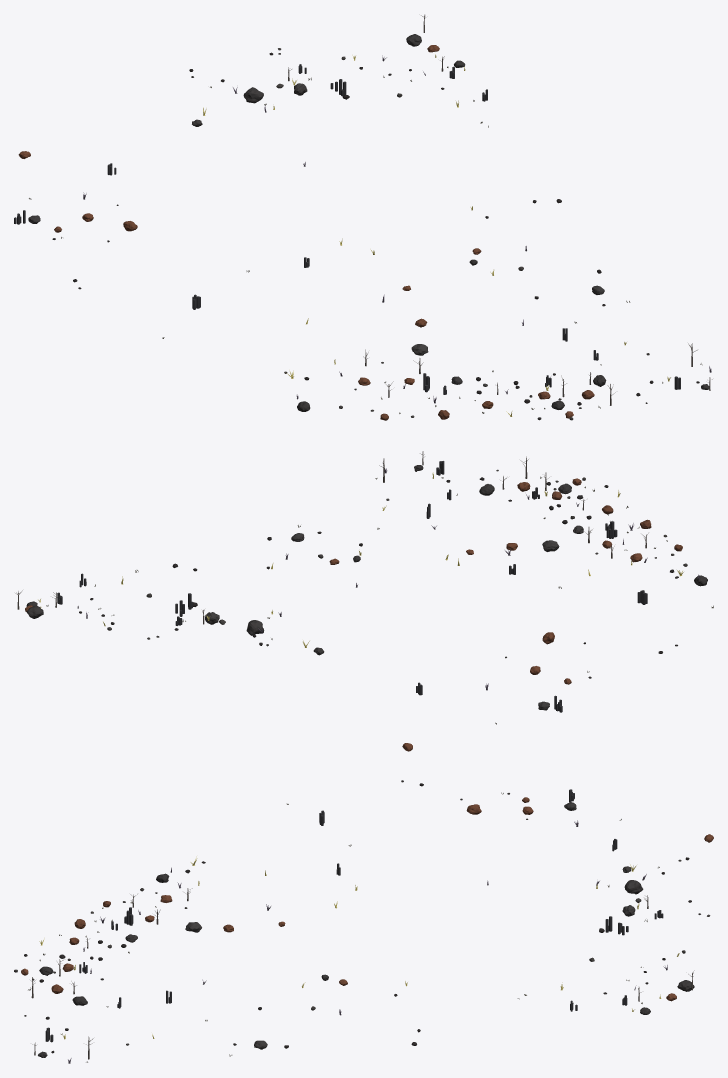
The model's file is ash_land_scatter_c17_28.glb.
The picture shows the model from 3 angles, top to bottom: view 1: azimuth 30°, elevation 25°; view 2: azimuth 150°, elevation 25°; view 3: azimuth 270°, elevation 25°; orthographic projection. The views are drawn at different scales.
Visible parts, largest first — view 1: ash_land_scatter_c17_28; view 2: ash_land_scatter_c17_28; view 3: ash_land_scatter_c17_28.
Boxes of the visible parts, x1,y1,x2,y2 form: ash_land_scatter_c17_28: (14, 14, 712, 420); ash_land_scatter_c17_28: (15, 451, 713, 751); ash_land_scatter_c17_28: (14, 780, 713, 1063).
Size of the model in its own units: 201 by 44.81 by 247.
